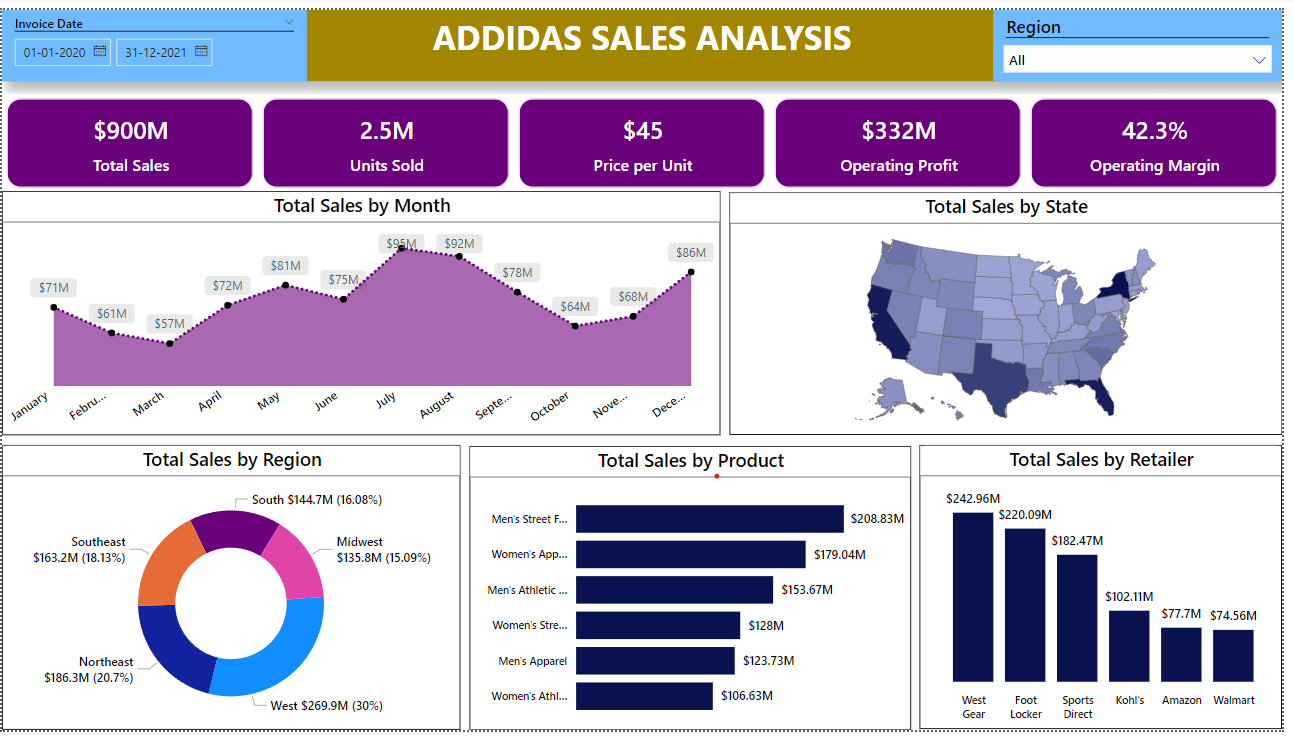

What the dashboard file says about the page in this screenshot:
{"tool":"powerbi","page":{"name":"Page 1","canvas":[1280,720],"ordinal":0},"visuals":[{"type":"shape","box":[0,0,1280.3,70.9],"z":0},{"type":"cardVisual","fields":{"Data":["Sum(Data Sales Adidas.Total Sales)","Sum(Data Sales Adidas.Units Sold)","Avg(Data Sales Adidas.Price per Unit)","Sum(Data Sales Adidas.Operating Profit)","Avg(Data Sales Adidas.Operating Margin)"]},"box":[0,83.2,1280.3,99],"z":1000},{"type":"areaChart","title":" Total Sales by Month","fields":{"Category":["Data Sales Adidas.Invoice Date.Variation.Date Hierarchy.Month"],"Y":["Sum(Data Sales Adidas.Total Sales)"]},"box":[0,181.2,718.8,243.8],"z":2000},{"type":"shapeMap","title":"Total Sales by State","fields":{"Category":["Data Sales Adidas.State"],"Value":["Sum(Data Sales Adidas.Total Sales)"]},"box":[727.5,182.5,552.5,242.5],"z":3000},{"type":"donutChart","fields":{"Category":["Data Sales Adidas.Region"],"Y":["Sum(Data Sales Adidas.Total Sales)"]},"box":[0,435,458.8,285],"z":4000},{"type":"barChart","fields":{"Y":["Sum(Data Sales Adidas.Total Sales)"],"Category":["Data Sales Adidas.Product"]},"box":[467.5,436.2,441.2,283.8],"z":5000},{"type":"clusteredColumnChart","fields":{"Category":["Data Sales Adidas.Retailer"],"Y":["Sum(Data Sales Adidas.Total Sales)"]},"box":[917.5,435,362.5,283.8],"z":6000},{"type":"slicer","fields":{"Values":["Data Sales Adidas.Region"]},"box":[991.2,0,288.8,71.2],"z":6001},{"type":"slicer","fields":{"Values":["Data Sales Adidas.Invoice Date"]},"box":[0,0,305,71.2],"z":6002}]}

Visuals, with their boxes in screenshot pixels (x1, y1, x2, y2), scaled from the page's 1280x720 canvas onto the 1294x743 screenshot:
shape: left=0, top=0, right=1293, bottom=73
cardVisual - Sum(Data Sales Adidas.Total Sales) x Sum(Data Sales Adidas.Units Sold): left=0, top=86, right=1293, bottom=188
" Total Sales by Month" areaChart: left=0, top=187, right=727, bottom=439
"Total Sales by State" shapeMap: left=735, top=188, right=1293, bottom=439
donutChart - Data Sales Adidas.Region x Sum(Data Sales Adidas.Total Sales): left=0, top=449, right=464, bottom=742
barChart - Sum(Data Sales Adidas.Total Sales) x Data Sales Adidas.Product: left=473, top=450, right=919, bottom=742
clusteredColumnChart - Data Sales Adidas.Retailer x Sum(Data Sales Adidas.Total Sales): left=928, top=449, right=1293, bottom=742
slicer - Data Sales Adidas.Region: left=1002, top=0, right=1293, bottom=73
slicer - Data Sales Adidas.Invoice Date: left=0, top=0, right=308, bottom=73
